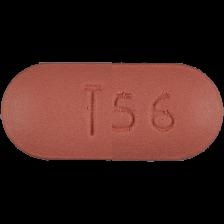0179-0219: (0, 0, 224, 224)
